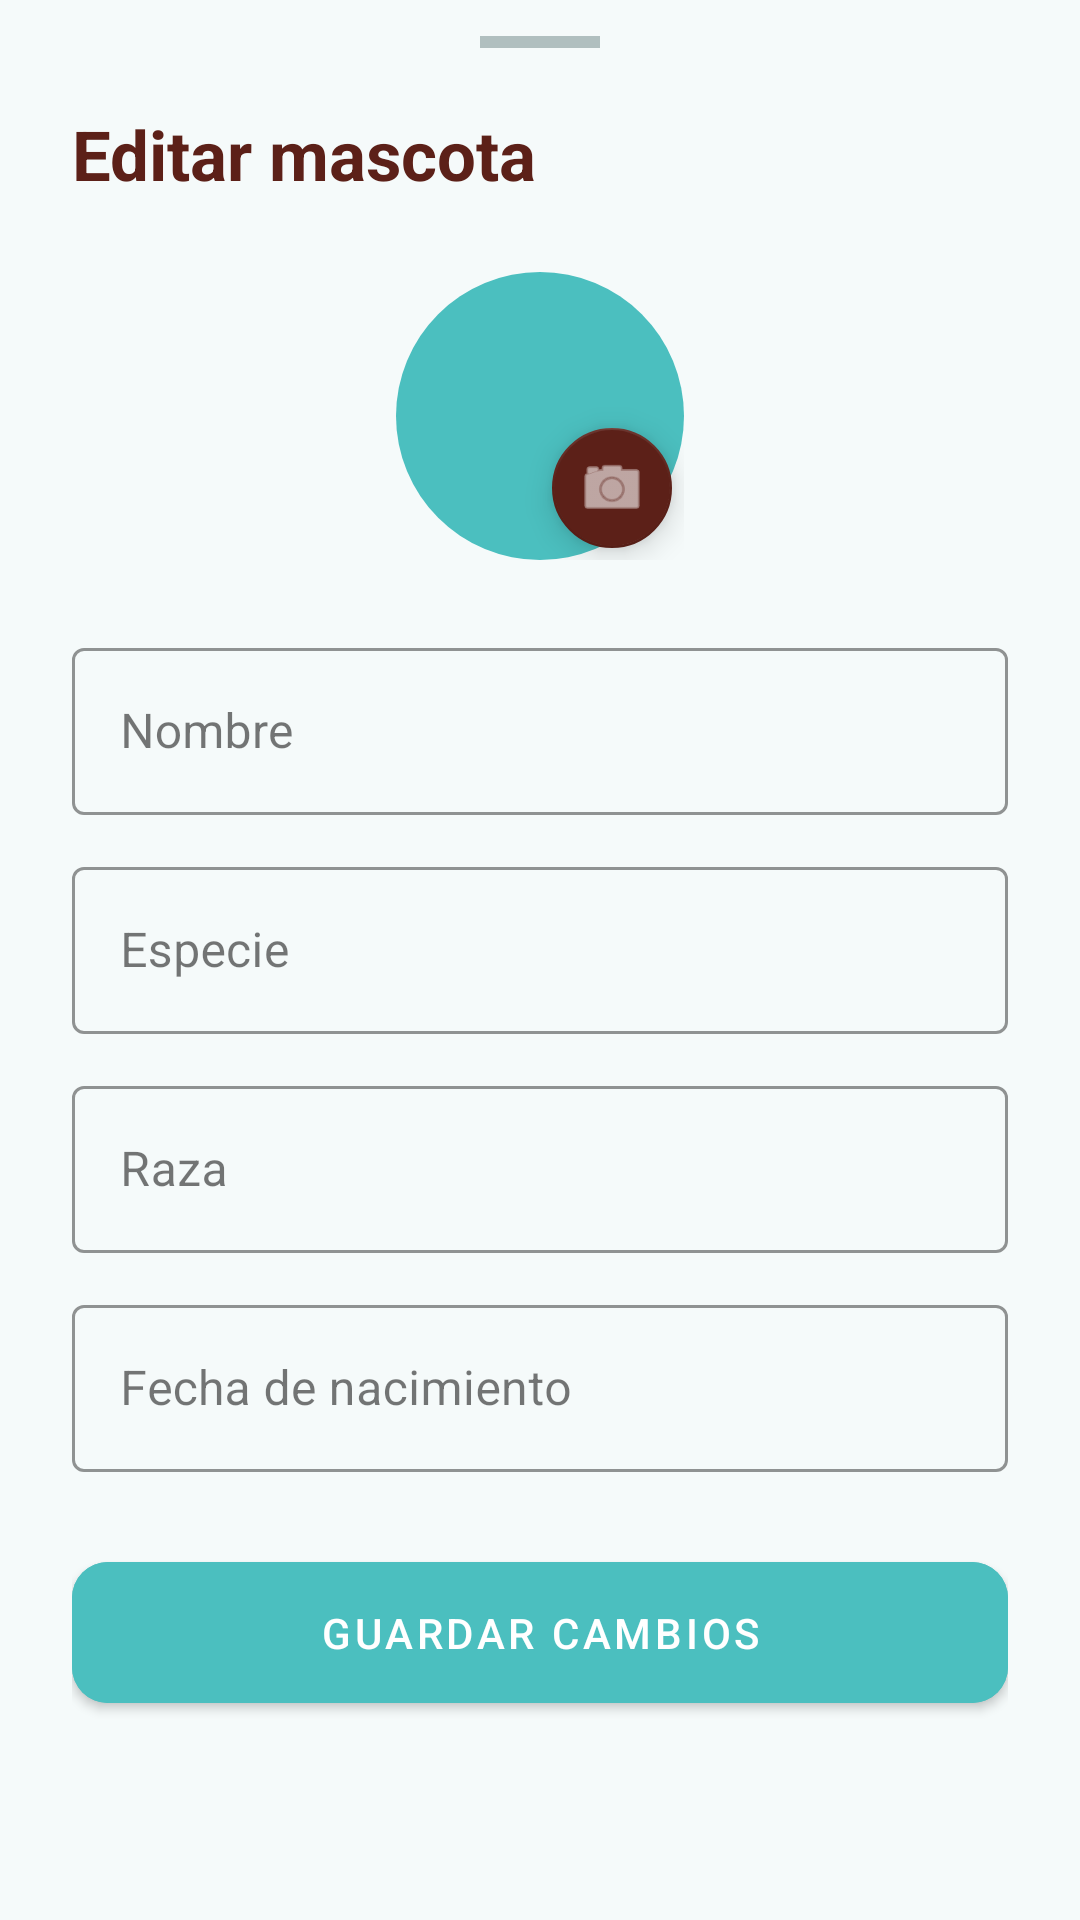

Screen size 1080px×1920px. Icon name, then its center in pixels as (x,y):
Cambiar foto: (612,488)
